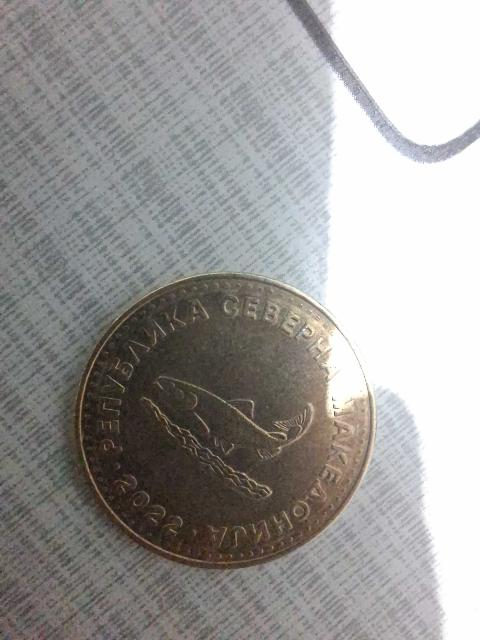coin: (77, 273, 375, 567)
